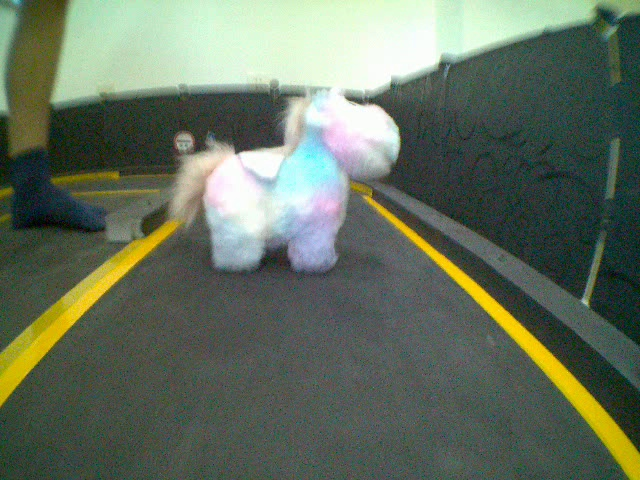unicorn: (172, 83, 401, 276)
